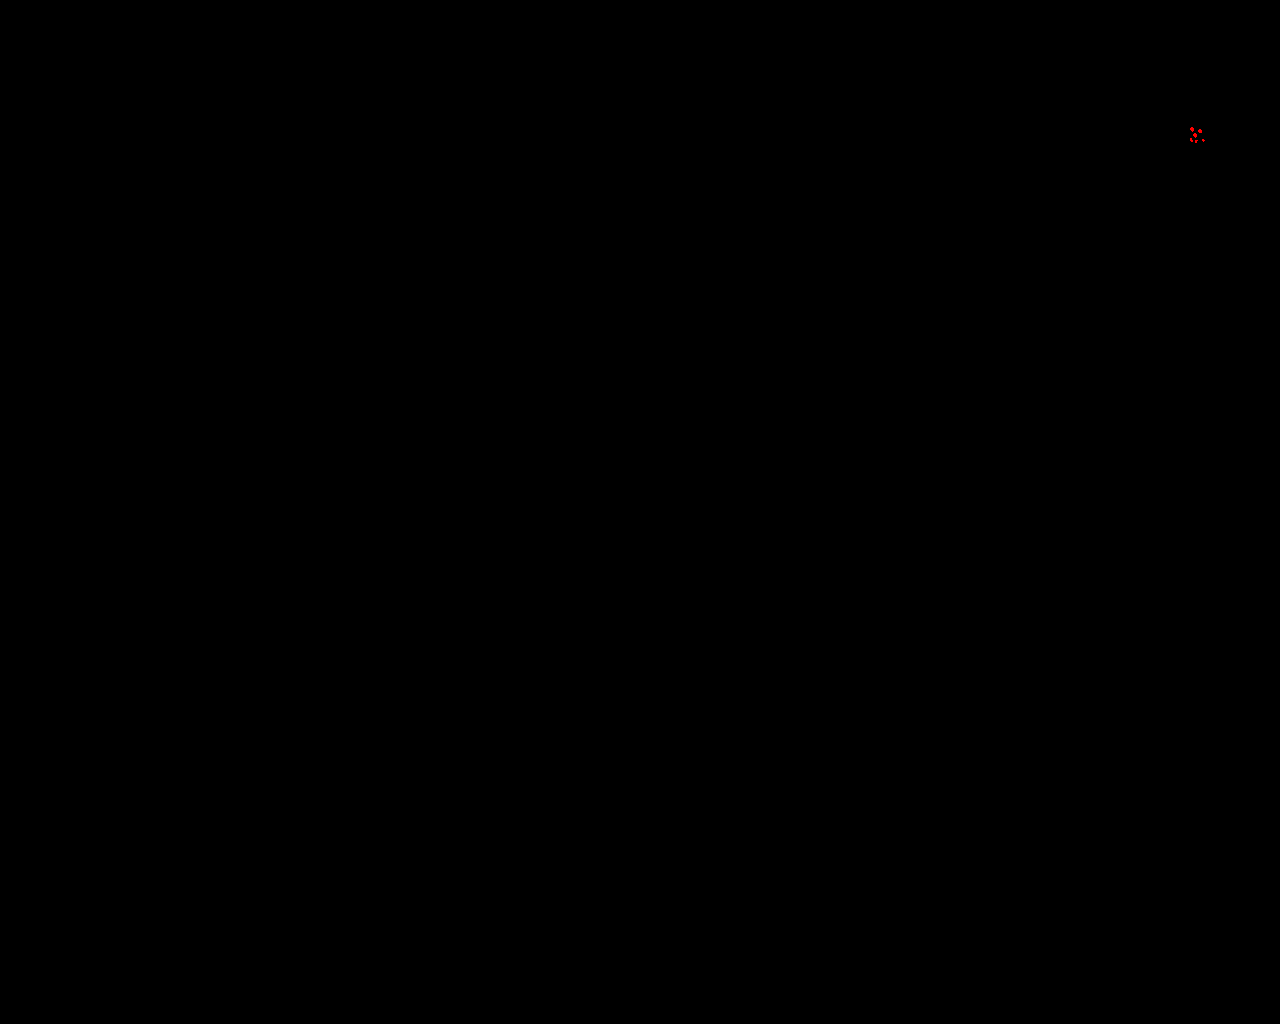Target: (1193, 133, 1197, 138), (1190, 127, 1194, 132), (1198, 129, 1202, 133), (1190, 138, 1193, 142), (1202, 139, 1205, 142), (1195, 140, 1198, 143)
